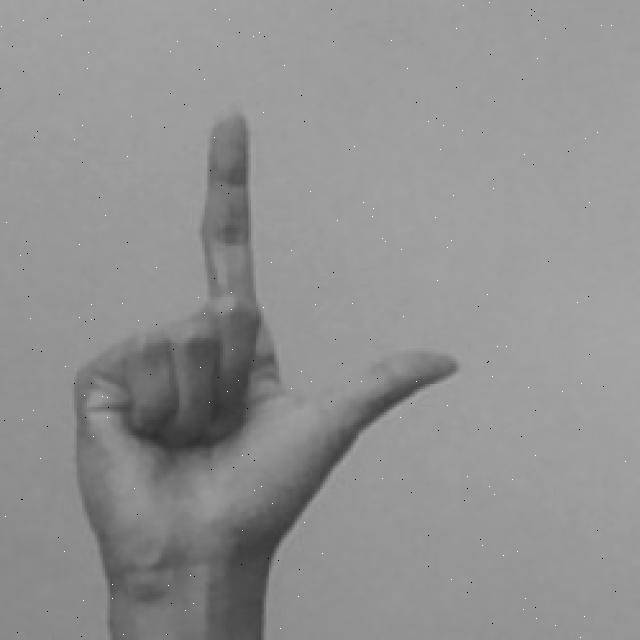L: (74, 102, 468, 640)
